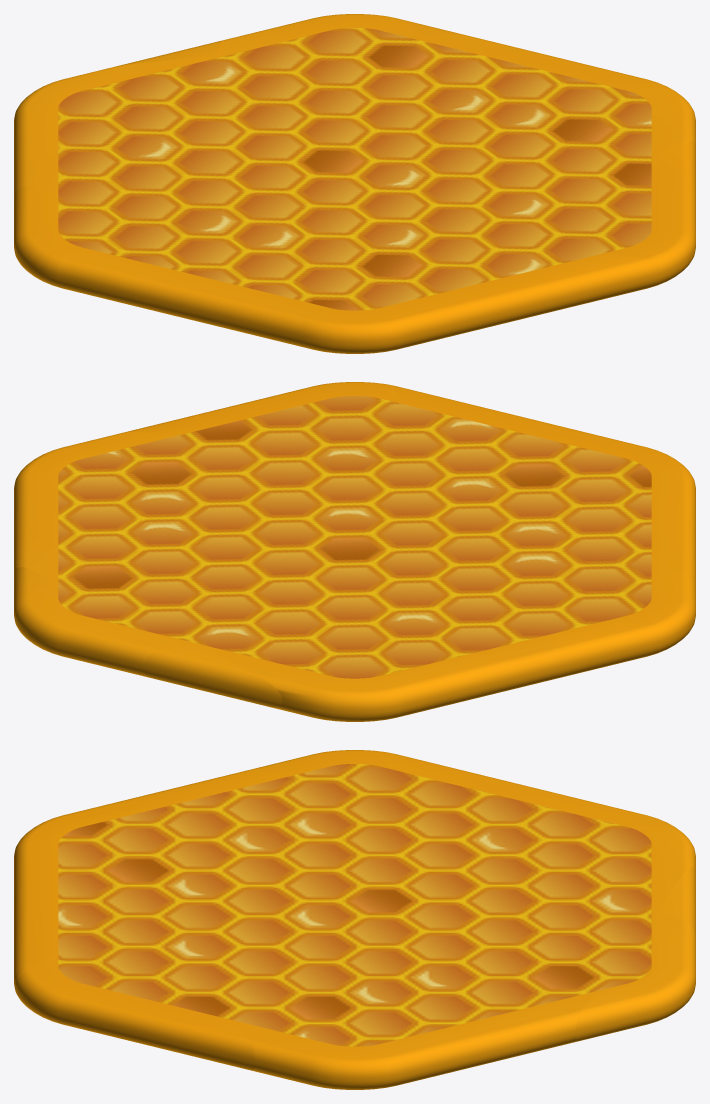
File: Honey.fbx
3 renders of one model, top to bottom at view 1: azimuth 30°, elevation 25°; view 2: azimuth 150°, elevation 25°; view 3: azimuth 270°, elevation 25°, orthographic.
Visible parts, largest first — view 1: Cylinder.101, Cylinder.109, Cylinder.103, Cylinder.108, Cylinder.105, Cylinder.107, Cylinder.102, Cylinder.098, Cylinder.100, Cylinder.104, Cylinder.099, Cylinder.096 (+2 smaller); view 2: Cylinder.101, Cylinder.103, Cylinder.098, Cylinder.105, Cylinder.108, Cylinder.100, Cylinder.109, Cylinder.102, Cylinder.107, Cylinder.099, Cylinder.096, Cylinder.104 (+2 smaller); view 3: Cylinder.101, Cylinder.103, Cylinder.107, Cylinder.105, Cylinder.108, Cylinder.109, Cylinder.102, Cylinder.098, Cylinder.096, Cylinder.104, Cylinder.099, Cylinder.100 (+2 smaller).
Part boxes in pixels (x1,y1,x2,y2): Cylinder.101: (178,34,556,154); Cylinder.109: (299,238,660,353); Cylinder.103: (400,57,695,167); Cylinder.108: (179,218,474,346); Cylinder.105: (300,155,624,238); Cylinder.107: (476,168,695,286); Cylinder.102: (153,142,399,217); Cylinder.098: (14,56,214,144); Cylinder.100: (14,186,152,302); Cylinder.104: (119,201,298,317); Cylinder.099: (14,133,177,200); Cylinder.096: (215,14,461,56); Cylinder.101: (14,519,387,644); Cylinder.103: (14,431,303,530); Cylinder.098: (193,615,450,721); Cylinder.105: (218,439,482,533); Cylinder.108: (437,458,695,550); Cylinder.100: (521,571,695,678); Cylinder.109: (392,385,695,492); Cylinder.102: (304,528,520,615); Cylinder.107: (194,382,436,458); Cylinder.099: (388,595,556,704); Cylinder.096: (14,567,192,678); Cylinder.104: (483,533,695,595); Cylinder.101: (362,854,655,1063); Cylinder.103: (222,929,488,1089); Cylinder.107: (15,914,221,1053); Cylinder.105: (152,860,361,1004); Cylinder.108: (73,783,282,914); Cylinder.109: (14,813,151,989); Cylinder.102: (283,815,497,928); Cylinder.098: (499,802,695,910); Cylinder.096: (576,910,695,1040); Cylinder.104: (194,768,390,860); Cylinder.099: (391,776,593,853); Cylinder.100: (256,750,487,815).
Bounding box in the file's own units: 36.04 × 1.55 × 32.47.
